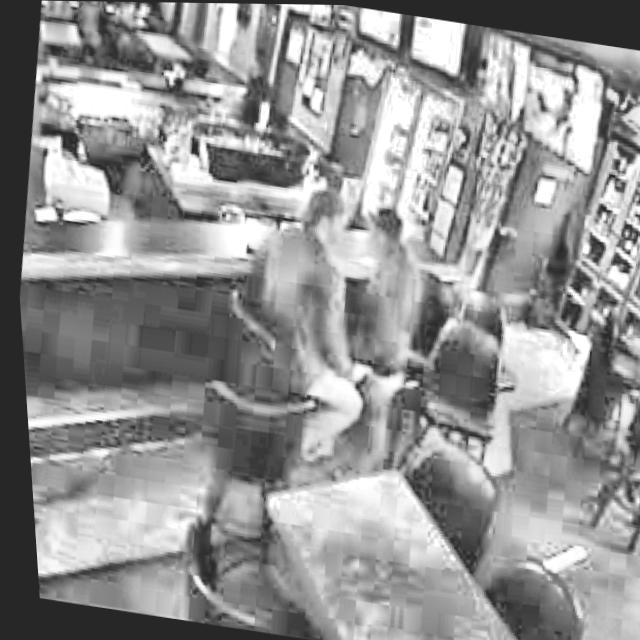robbery: (205, 175, 434, 472)
